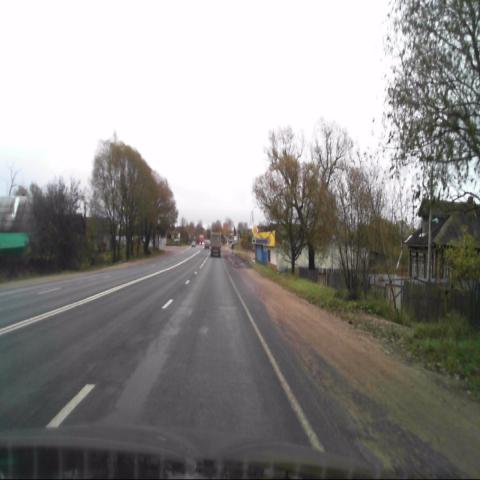2_1: (252, 225, 258, 236)
